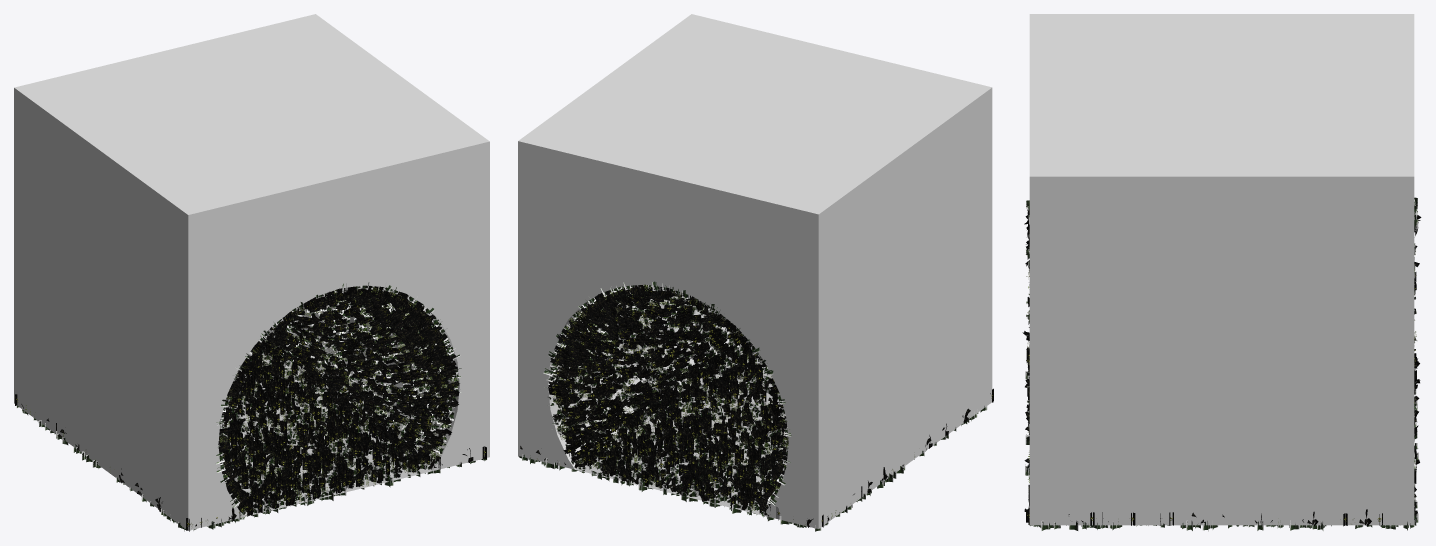
File: Stage1Straight.fbx
3 renders of one model, left to right at view 1: azimuth 30°, elevation 25°; view 2: azimuth 150°, elevation 25°; view 3: azimuth 270°, elevation 25°, orthographic. The views are drawn at different scales.
Parts seen in each view (by area): view 1: Cube, Scattered_Tunnel_Ivy_Straight_High, Scattered_Tunnel_Ivy_Road_High, Scattered_Tunnel_Ivy_Road_Low, Scattered_Tunnel_Straight_Low, Road; view 2: Cube, Scattered_Tunnel_Ivy_Straight_High, Scattered_Tunnel_Ivy_Road_High, Scattered_Tunnel_Ivy_Road_Low, Scattered_Tunnel_Straight_Low, Road; view 3: Cube, Scattered_Tunnel_Ivy_Road_Low, Scattered_Tunnel_Ivy_Road_High, Scattered_Tunnel_Ivy_Straight_High, Scattered_Tunnel_Straight_Low.
Part boxes in pixels (x1,y1,x2,y2): Cube: (14, 14, 489, 530); Scattered_Tunnel_Ivy_Straight_High: (218, 286, 459, 511); Scattered_Tunnel_Ivy_Road_High: (15, 338, 486, 531); Scattered_Tunnel_Ivy_Road_Low: (16, 350, 487, 531); Scattered_Tunnel_Straight_Low: (216, 282, 461, 518); Road: (220, 353, 431, 516); Cube: (518, 14, 992, 528); Scattered_Tunnel_Ivy_Straight_High: (548, 284, 788, 511); Scattered_Tunnel_Ivy_Road_High: (520, 338, 993, 527); Scattered_Tunnel_Ivy_Road_Low: (518, 343, 987, 531); Scattered_Tunnel_Straight_Low: (543, 281, 791, 516); Road: (575, 351, 784, 514); Cube: (1029, 14, 1414, 525); Scattered_Tunnel_Ivy_Road_Low: (1025, 371, 1418, 531); Scattered_Tunnel_Ivy_Road_High: (1024, 349, 1419, 526); Scattered_Tunnel_Ivy_Straight_High: (1022, 209, 1421, 492); Scattered_Tunnel_Straight_Low: (1025, 197, 1418, 492).
Bounding box in the file's own units: 20.62 × 20.37 × 20.75.
